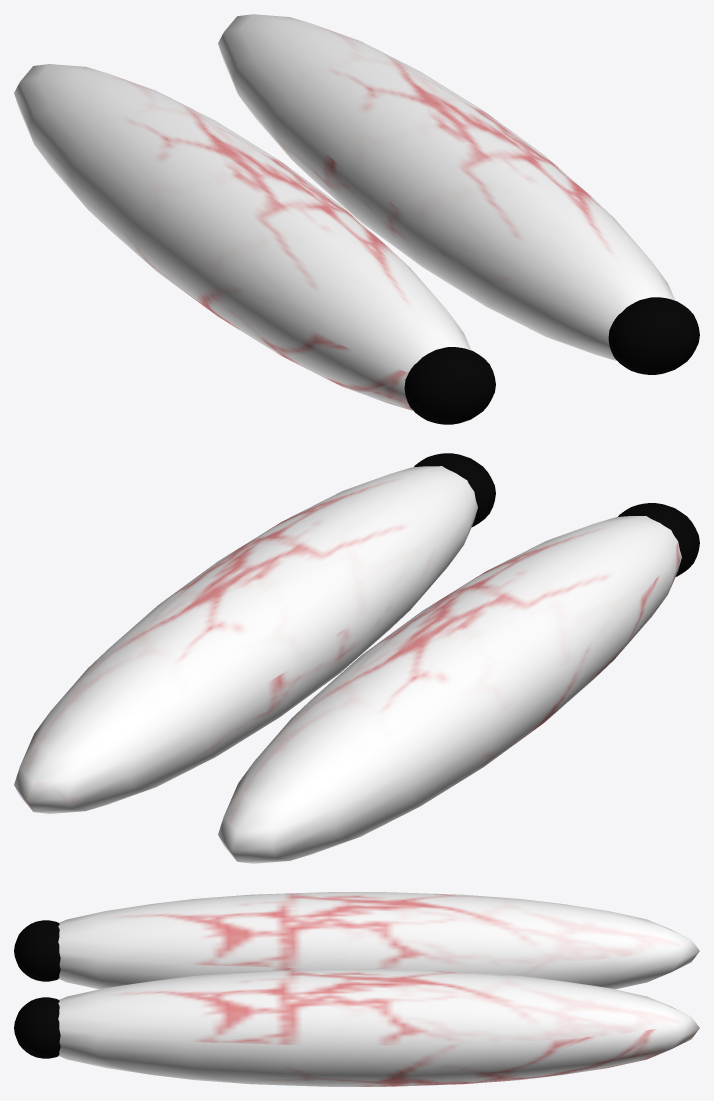
The model's file is OlhosSurpreso.fbx.
3 renders of one model, top to bottom at view 1: azimuth 30°, elevation 25°; view 2: azimuth 150°, elevation 25°; view 3: azimuth 270°, elevation 25°, orthographic. The views are drawn at different scales.
Visible parts, largest first — view 1: OlhosSurpreso; view 2: OlhosSurpreso; view 3: OlhosSurpreso.
Part boxes in pixels (x1,y1,x2,y2): OlhosSurpreso: [14, 14, 699, 424]; OlhosSurpreso: [14, 453, 699, 863]; OlhosSurpreso: [14, 892, 699, 1086].
Bounding box in the file's own units: 138 × 48.53 × 294.
